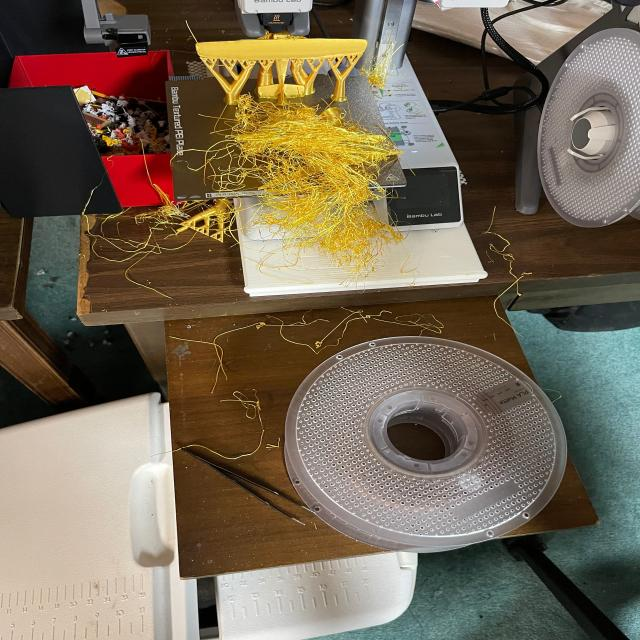spaghetti: (134, 68, 440, 286)
